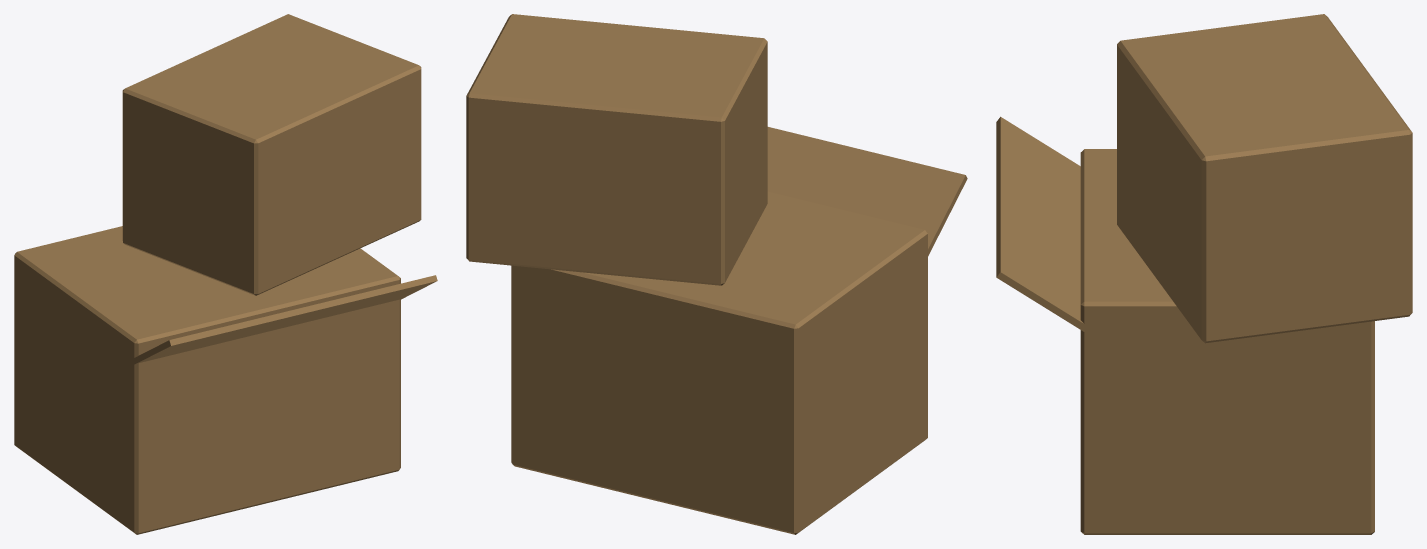
File: cardboard.glb
The picture shows the model from 3 angles, left to right: view 1: azimuth 30°, elevation 25°; view 2: azimuth 150°, elevation 25°; view 3: azimuth 270°, elevation 25°; orthographic projection. The views are drawn at different scales.
Visible parts, largest first — view 1: Cardboard; view 2: Cardboard; view 3: Cardboard.
Boxes of the visible parts, x1,y1,x2,y2 form: Cardboard: (14, 14, 437, 534); Cardboard: (466, 14, 967, 534); Cardboard: (996, 14, 1412, 534).
Size of the model in its own units: 0.6339 by 0.63 by 0.5657.
